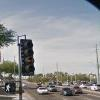Traffic light: (11, 24, 42, 87)
